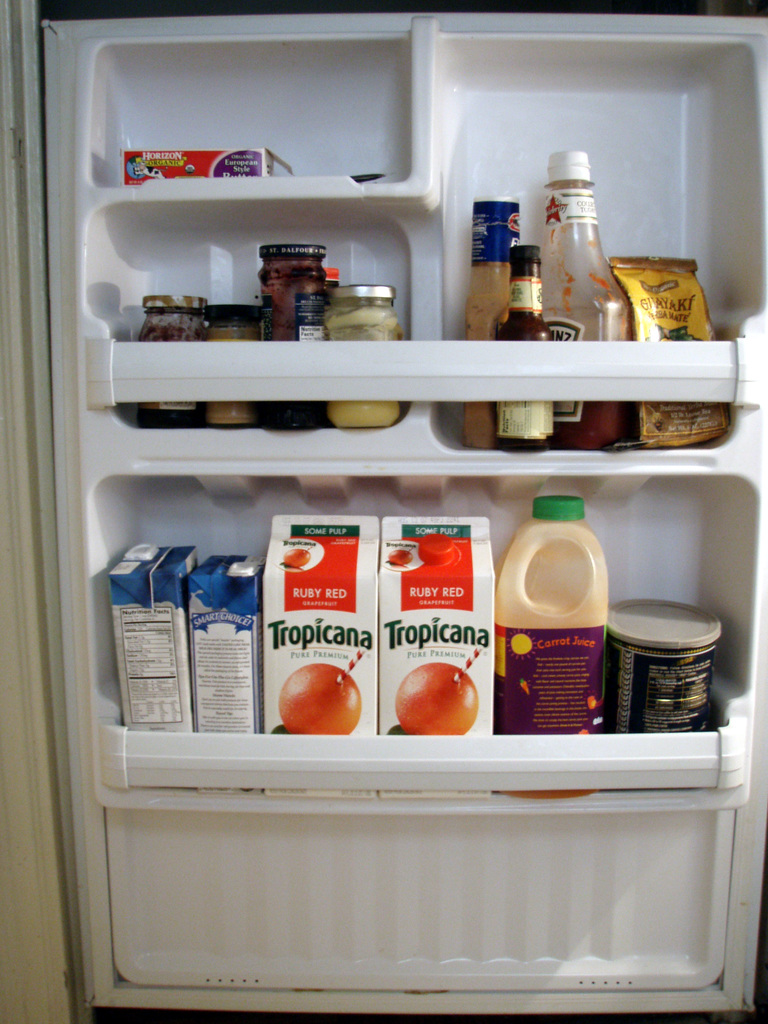refrigerator door: (70, 77, 763, 1006)
